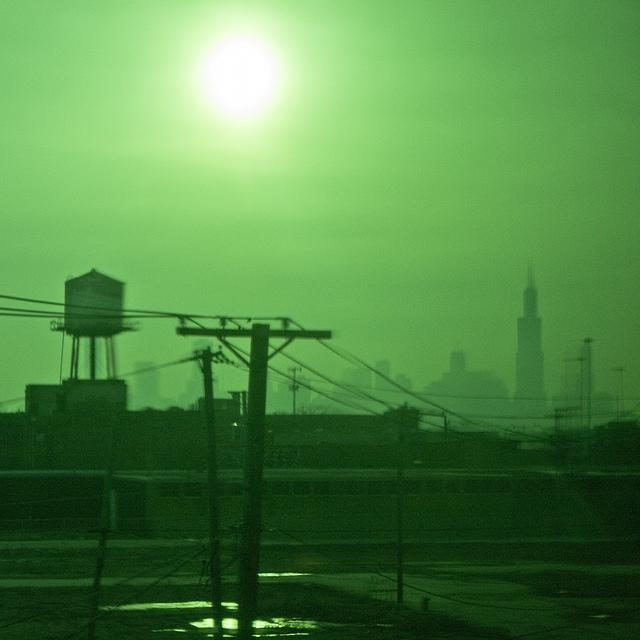Train: (0, 468, 637, 541)
